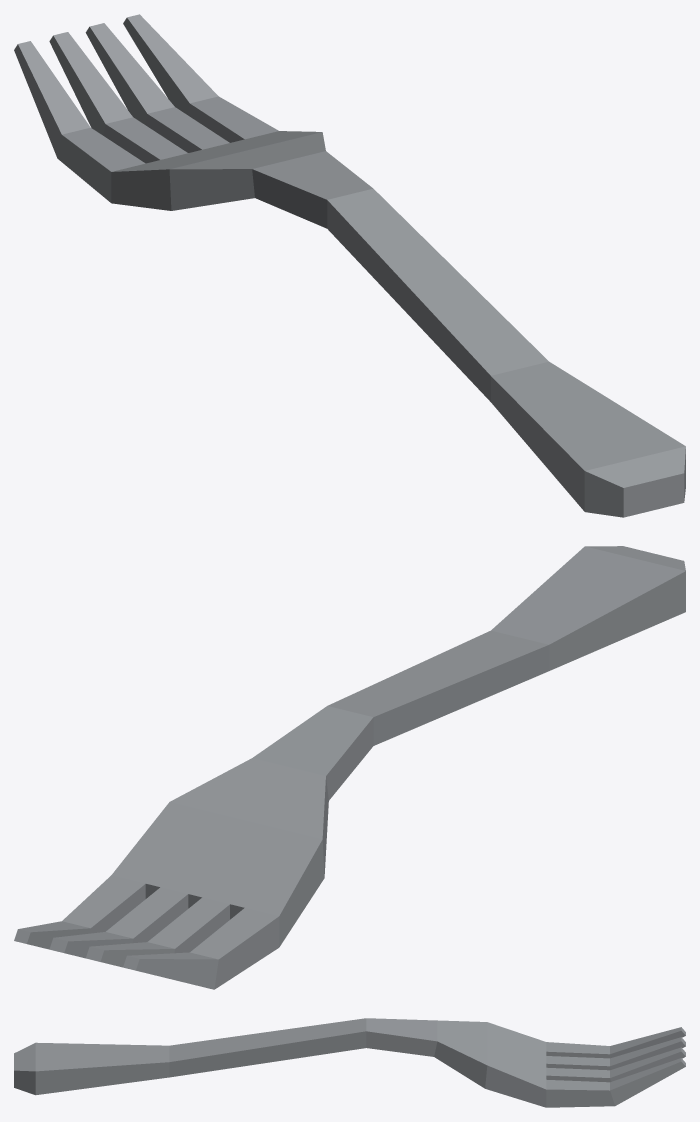
File: SM_Item_Cutlery_Fork_01.fbx
3 renders of one model, top to bottom at view 1: azimuth 30°, elevation 25°; view 2: azimuth 150°, elevation 25°; view 3: azimuth 270°, elevation 25°, orthographic. The views are drawn at different scales.
Visible parts, largest first — view 1: SM_Item_Cutlery_Fork_01; view 2: SM_Item_Cutlery_Fork_01; view 3: SM_Item_Cutlery_Fork_01.
Part boxes in pixels (bbox=[...]): SM_Item_Cutlery_Fork_01: bbox=[14, 14, 685, 517]; SM_Item_Cutlery_Fork_01: bbox=[14, 546, 685, 989]; SM_Item_Cutlery_Fork_01: bbox=[14, 1018, 685, 1107].
Size of the model in its own units: 5.73 by 3.33 by 34.19.
